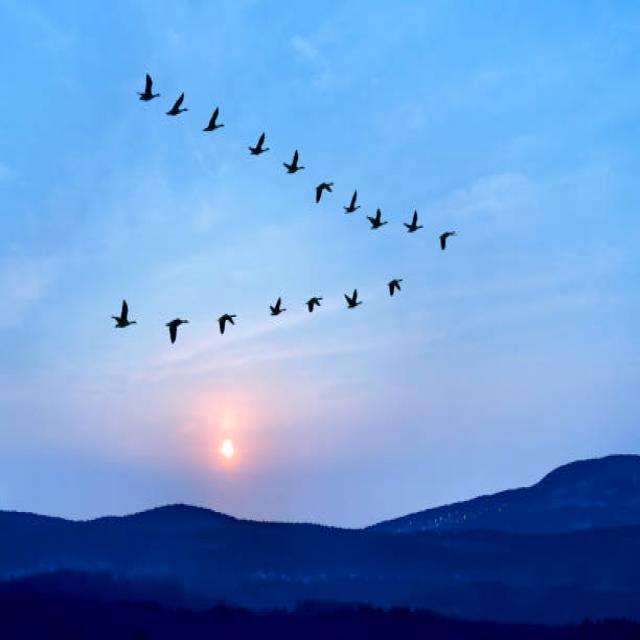bird: (99, 296, 138, 346), (198, 104, 236, 142), (243, 122, 276, 164), (209, 303, 239, 347), (160, 308, 190, 350), (130, 70, 162, 108), (432, 218, 462, 258), (308, 170, 338, 210), (162, 92, 196, 126), (339, 282, 372, 316), (398, 206, 425, 246), (301, 288, 331, 321), (265, 288, 289, 326), (282, 147, 306, 185), (366, 202, 389, 238), (385, 270, 410, 302), (340, 188, 363, 222)
